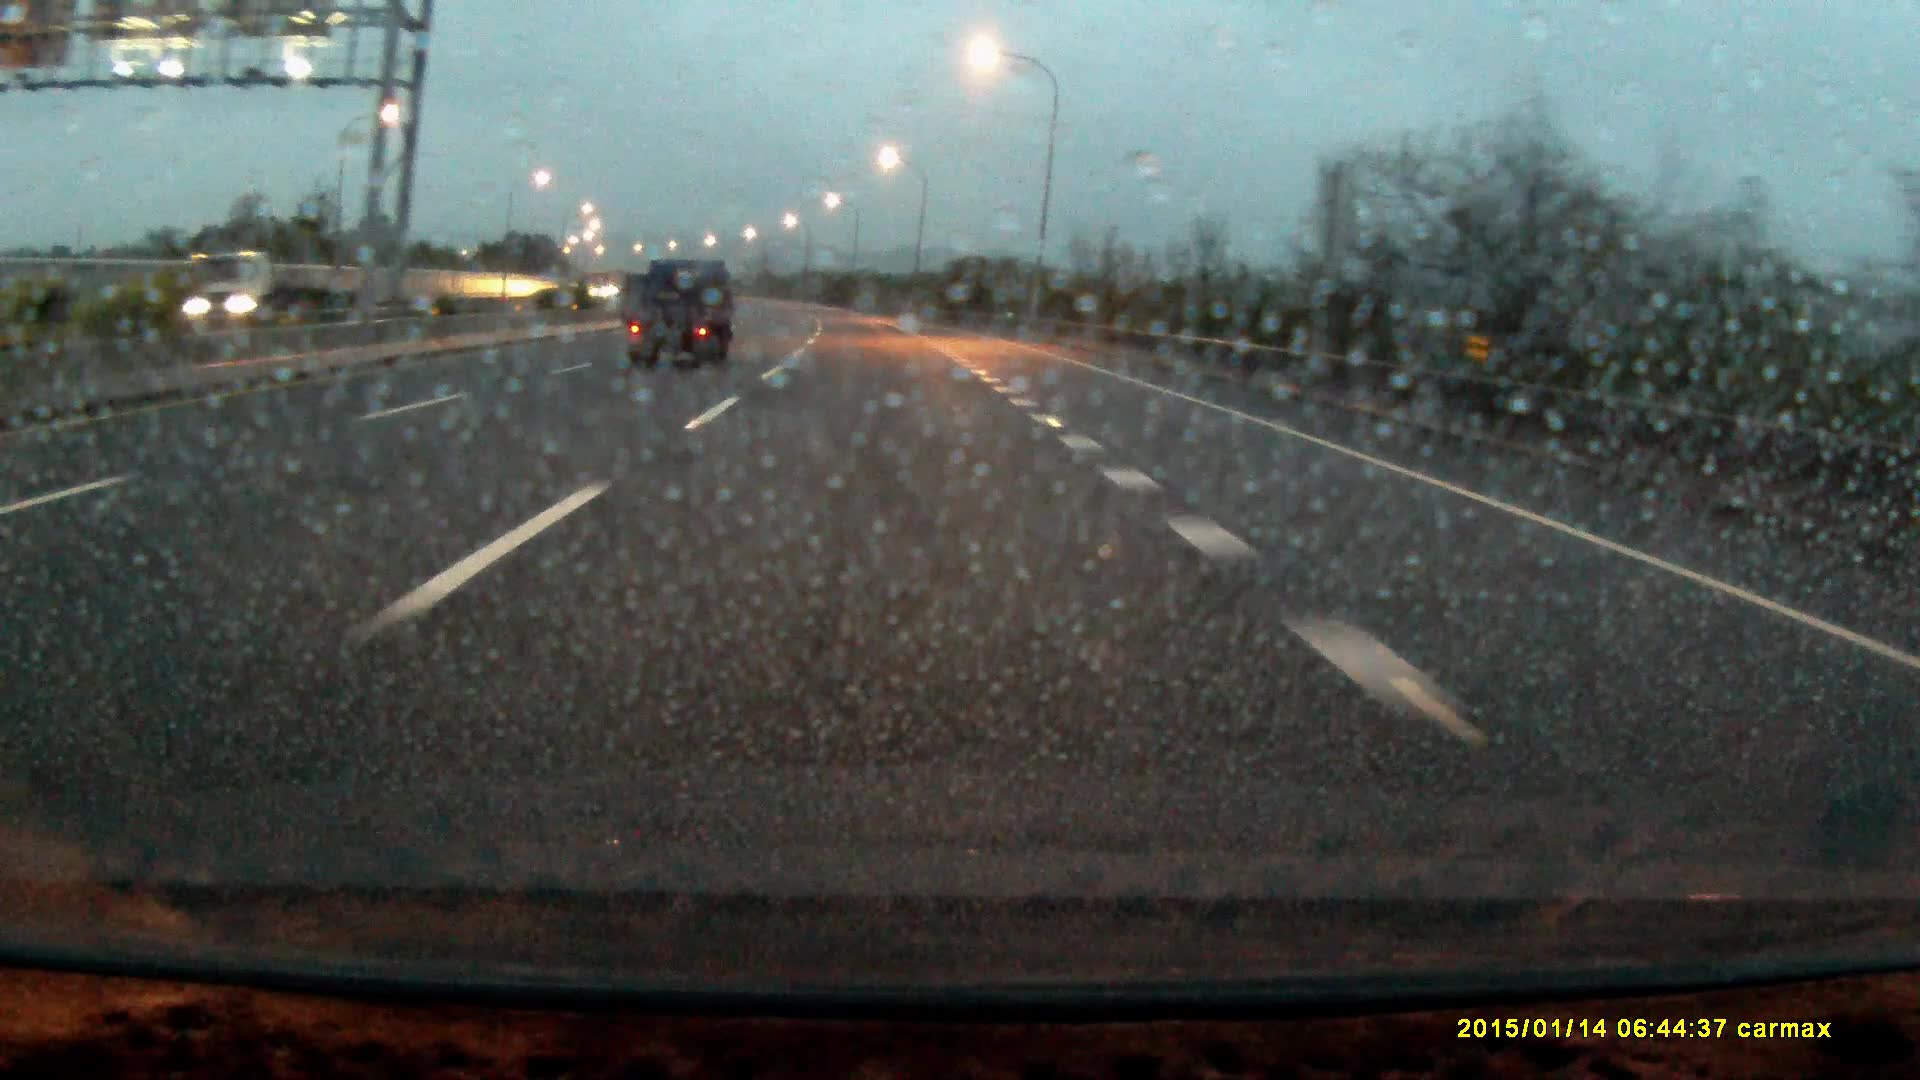vehicle: (626, 262, 738, 375), (177, 251, 344, 324)
